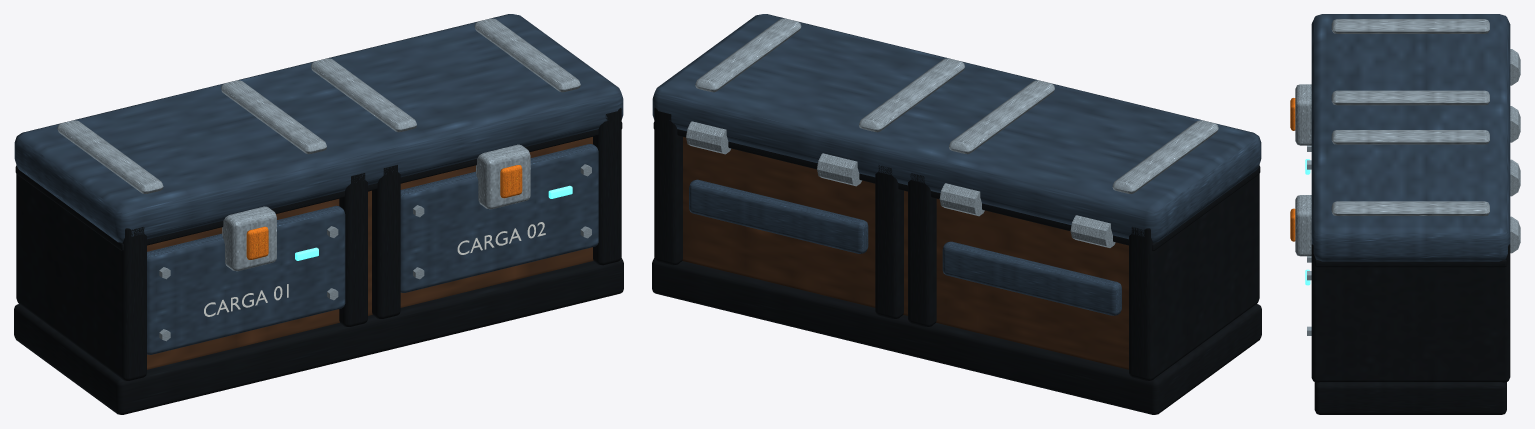
Rendered from bau-duplo.glb.
3 renders of one model, left to right at view 1: azimuth 30°, elevation 25°; view 2: azimuth 150°, elevation 25°; view 3: azimuth 270°, elevation 25°, orthographic. The views are drawn at different scales.
Visible parts, largest first — view 1: Painel frontal.003, Base do baú.002, Dobradiça traseira.006, Corpo texturizado.002, Trava.003, CARGA 01.002; view 2: Painel frontal.003, Base do baú.002, Corpo texturizado.002, Dobradiça traseira.006; view 3: Painel frontal.003, Base do baú.002, Dobradiça traseira.006, Trava.003.
Part boxes in pixels (<box>): Painel frontal.003: <box>14,14,623,354</box>; Base do baú.002: <box>14,108,623,414</box>; Dobradiça traseira.006: <box>57,18,591,341</box>; Corpo texturizado.002: <box>147,137,593,369</box>; Trava.003: <box>246,165,522,259</box>; CARGA 01.002: <box>204,222,545,316</box>; Painel frontal.003: <box>652,14,1261,315</box>; Base do baú.002: <box>652,108,1261,414</box>; Corpo texturizado.002: <box>682,137,1128,369</box>; Dobradiça traseira.006: <box>686,18,1218,247</box>; Painel frontal.003: <box>1311,14,1510,261</box>; Base do baú.002: <box>1311,244,1510,414</box>; Dobradiça traseira.006: <box>1295,19,1520,335</box>; Trava.003: <box>1290,98,1295,241</box>.
Size of the model in its own units: 2.48 by 1.01 by 1.09.
7 materials, 5 textured.
